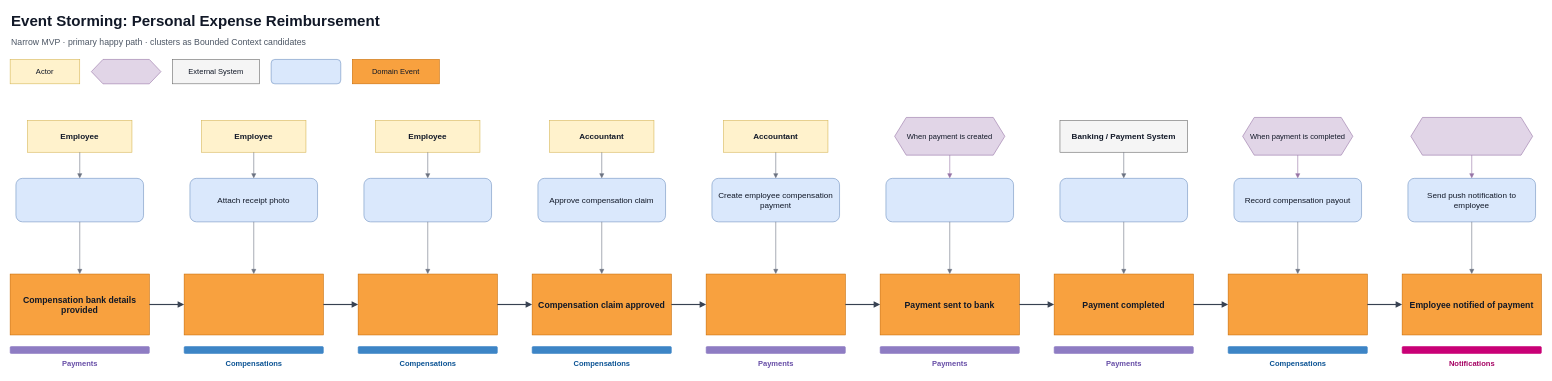
The diagram is 1552 pixels wide and 381 high, and some of its shapes have lost their labels. The centre of each missing label's shape, as x and y in pixels:
Command: the point at 306,71
Compensation claim submitted: the point at 427,304
Compensation paid: the point at 1297,304
Compensation payment created: the point at 775,304
Confirm payment completion: the point at 1123,200
Policy: the point at 126,71
Provide compensation bank details: the point at 79,200
Receipt attached to claim: the point at 253,304
Send payment to bank: the point at 949,200
Submit compensation claim: the point at 427,200
When compensation is paid: the point at 1471,136
